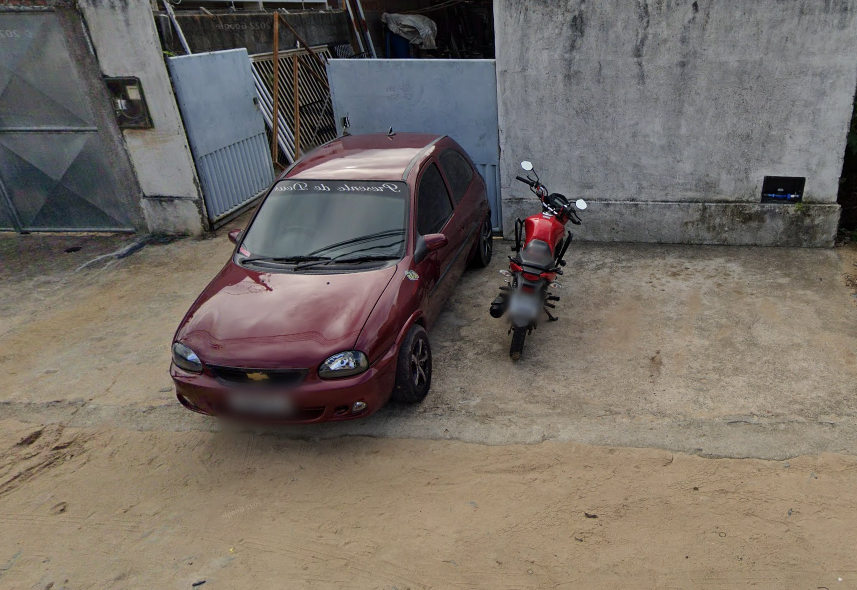car: (166, 115, 496, 453)
